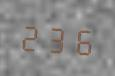six: (69, 20, 93, 58)
three: (44, 19, 68, 56)
two: (18, 17, 42, 54)
